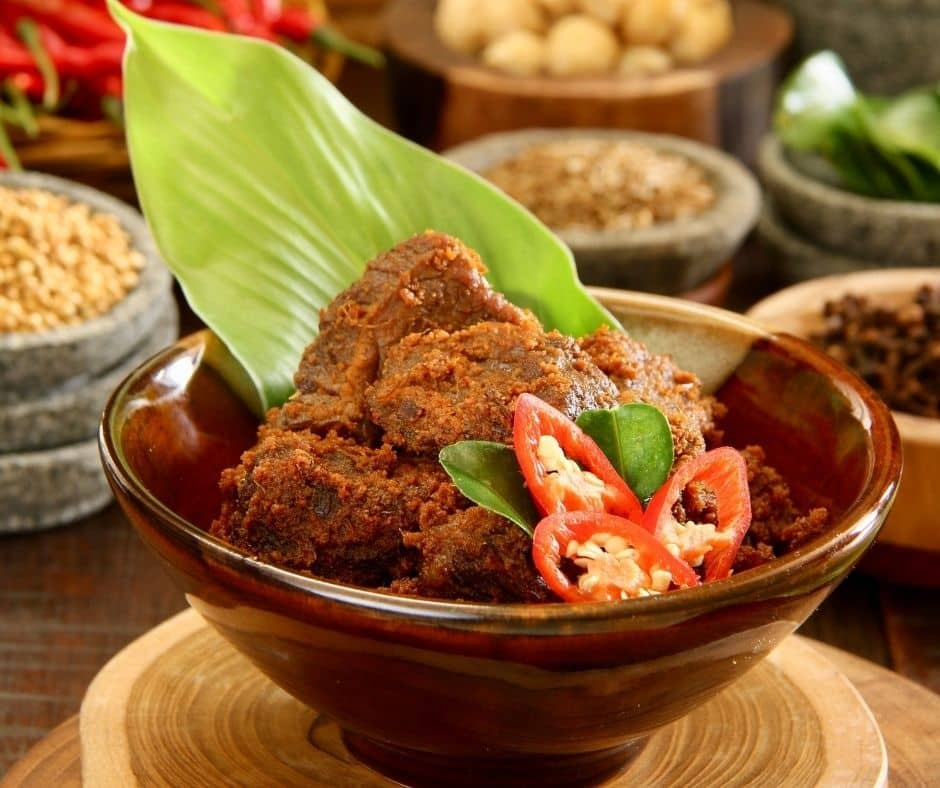Rendang: (186, 225, 774, 593)
